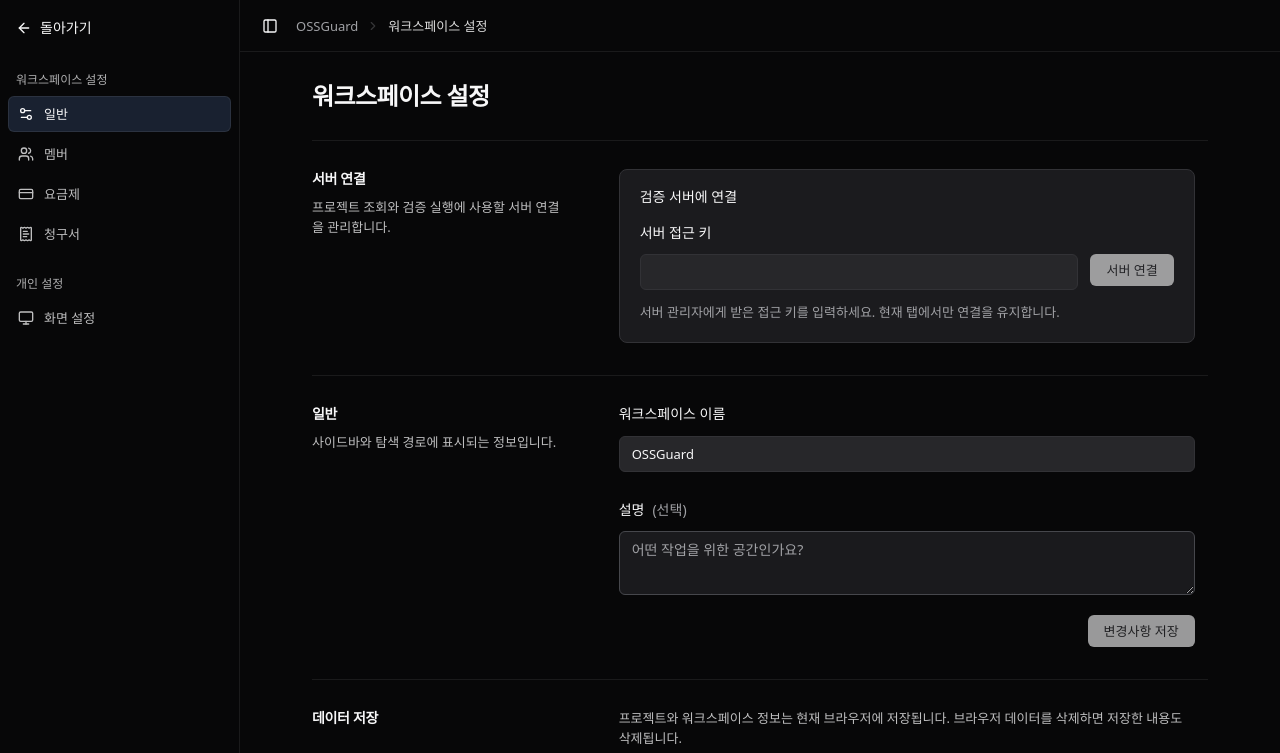
Scenario: keeps the previous workspace name when storage rejects a change
Replace the text in the field labelled "워크스페이스 이름" with "새 이름" at (907, 454), box [619,436,1195,472]
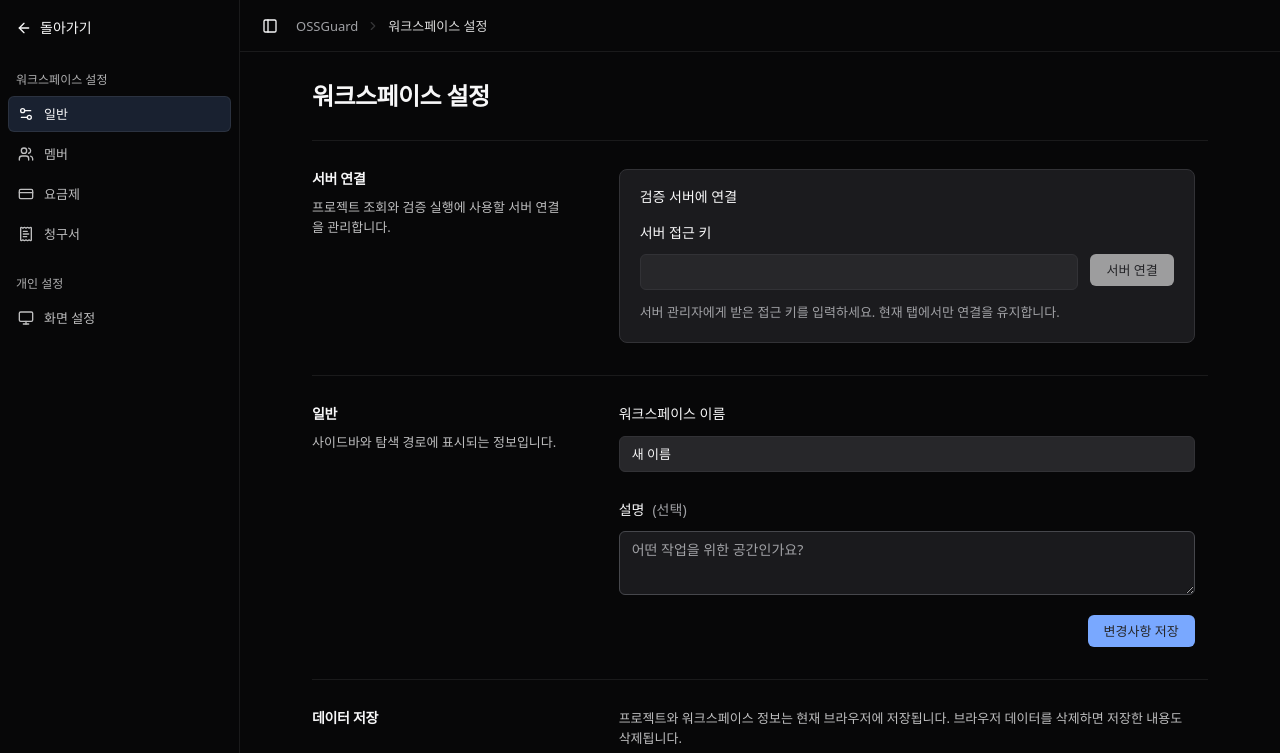
Click the button "변경사항 저장" at (1141, 631), box [1088,615,1195,647]
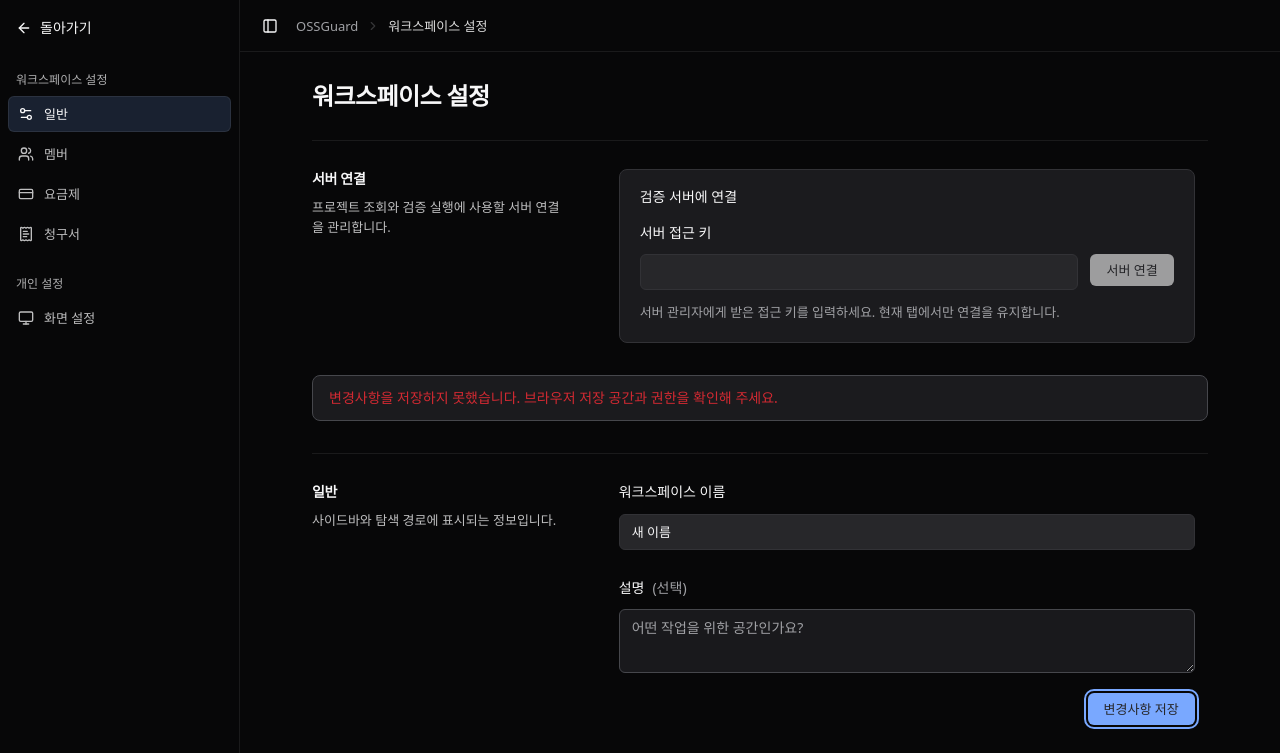
Expected: the text "OSSGuard" is shown, [296,16,358,36]
Expected: the message shows "저장하지 못했습니다", [329,388,778,407]
